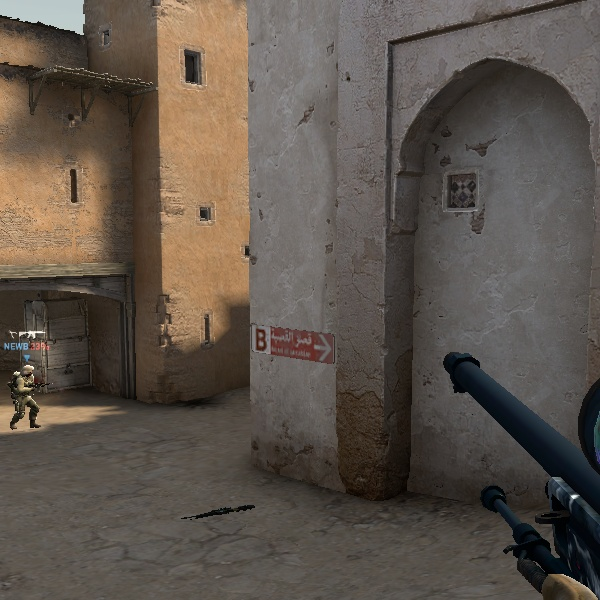ct_body: (5, 359, 45, 431)
ct_head: (17, 361, 41, 380)
